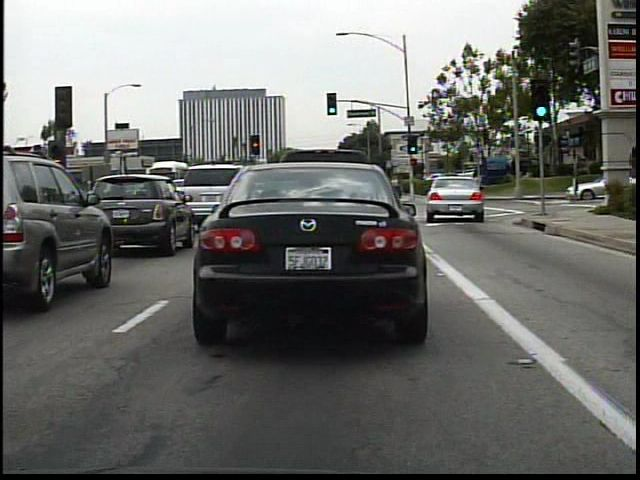car: (194, 132, 434, 358), (1, 149, 118, 295), (94, 175, 190, 254), (420, 174, 486, 223)
